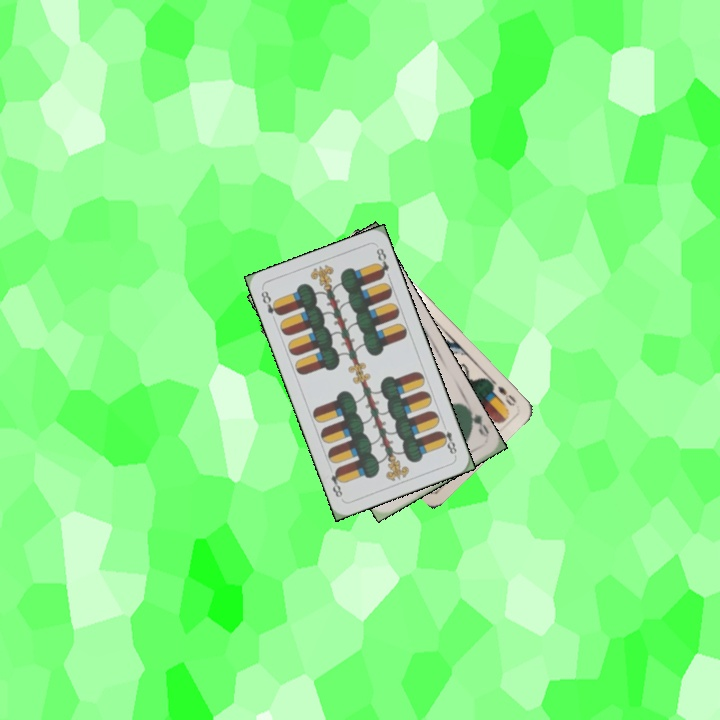E8: (435, 419, 459, 459), (257, 286, 283, 318)
EO: (488, 377, 519, 408)
GO: (463, 404, 492, 440)
